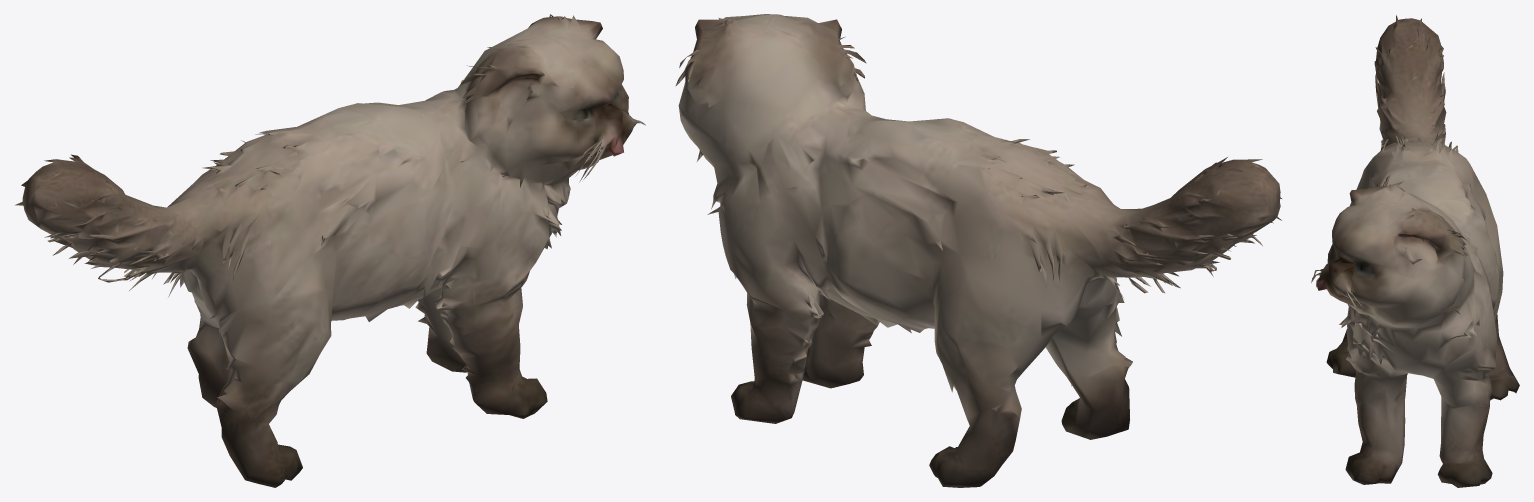
The model's file is MIGGLES-lo.glb.
3 renders of one model, left to right at view 1: azimuth 30°, elevation 25°; view 2: azimuth 150°, elevation 25°; view 3: azimuth 270°, elevation 25°, orthographic. The views are drawn at different scales.
Parts seen in each view (by area): view 1: tripo_node_38ef6e92-af8d-48f3-95af-afebd67e1487; view 2: tripo_node_38ef6e92-af8d-48f3-95af-afebd67e1487; view 3: tripo_node_38ef6e92-af8d-48f3-95af-afebd67e1487.
Boxes of the visible parts, <box> form: tripo_node_38ef6e92-af8d-48f3-95af-afebd67e1487: <box>15,14,645,487</box>; tripo_node_38ef6e92-af8d-48f3-95af-afebd67e1487: <box>675,14,1281,487</box>; tripo_node_38ef6e92-af8d-48f3-95af-afebd67e1487: <box>1311,15,1519,487</box>.
Size of the model in its own units: 1.75 by 0.9997 by 0.6353.
1 material, 1 textured.
